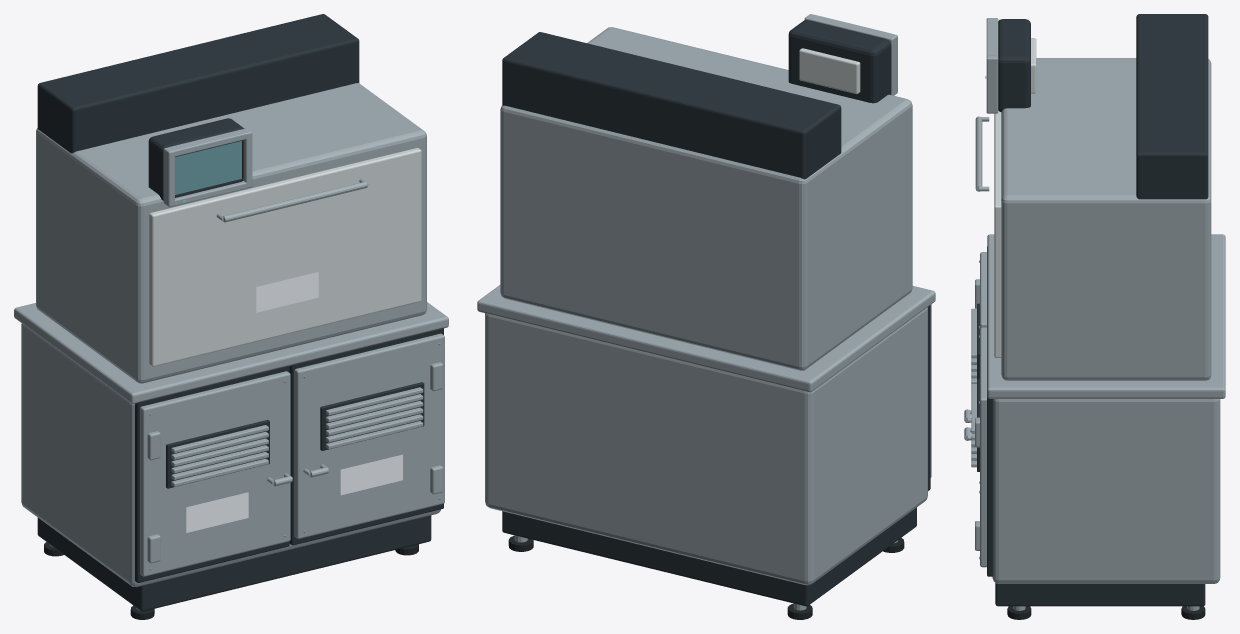
File: SF_TrayDishwasher.fbx
3 renders of one model, left to right at view 1: azimuth 30°, elevation 25°; view 2: azimuth 150°, elevation 25°; view 3: azimuth 270°, elevation 25°, orthographic. The views are drawn at different scales.
Parts seen in each view (by area): view 1: SF_TrayDishwasher; view 2: SF_TrayDishwasher; view 3: SF_TrayDishwasher.
Part boxes in pixels (left/top/right/bottom): SF_TrayDishwasher: left=14, top=14, right=448, bottom=619; SF_TrayDishwasher: left=477, top=14, right=935, bottom=619; SF_TrayDishwasher: left=964, top=14, right=1225, bottom=619.
Bounding box in the file's own units: 122 × 174 × 87.12.
